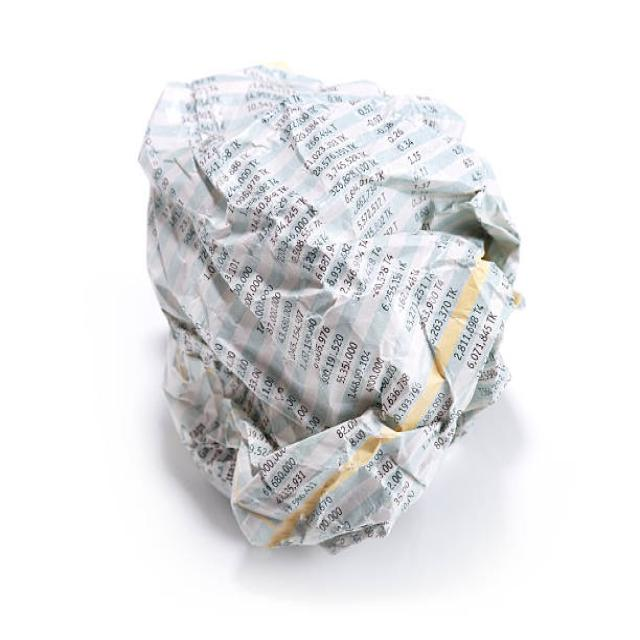electronic: (137, 63, 523, 553)
